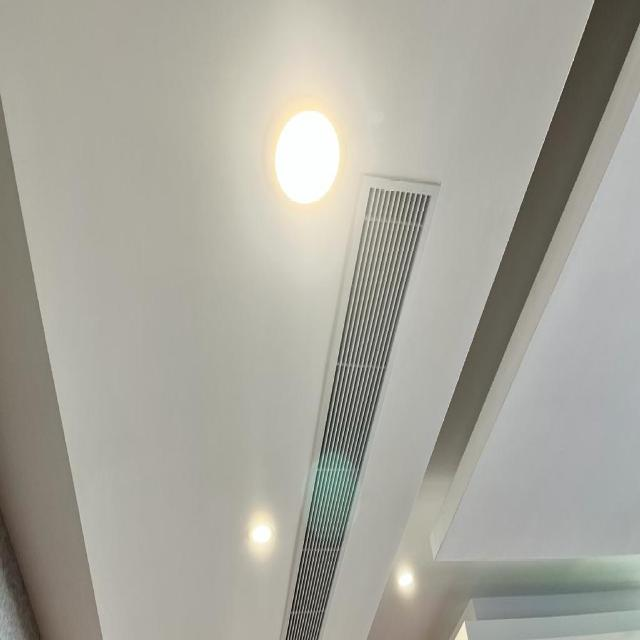Light-Opened: (262, 98, 347, 208), (244, 515, 280, 553), (392, 562, 420, 593)
